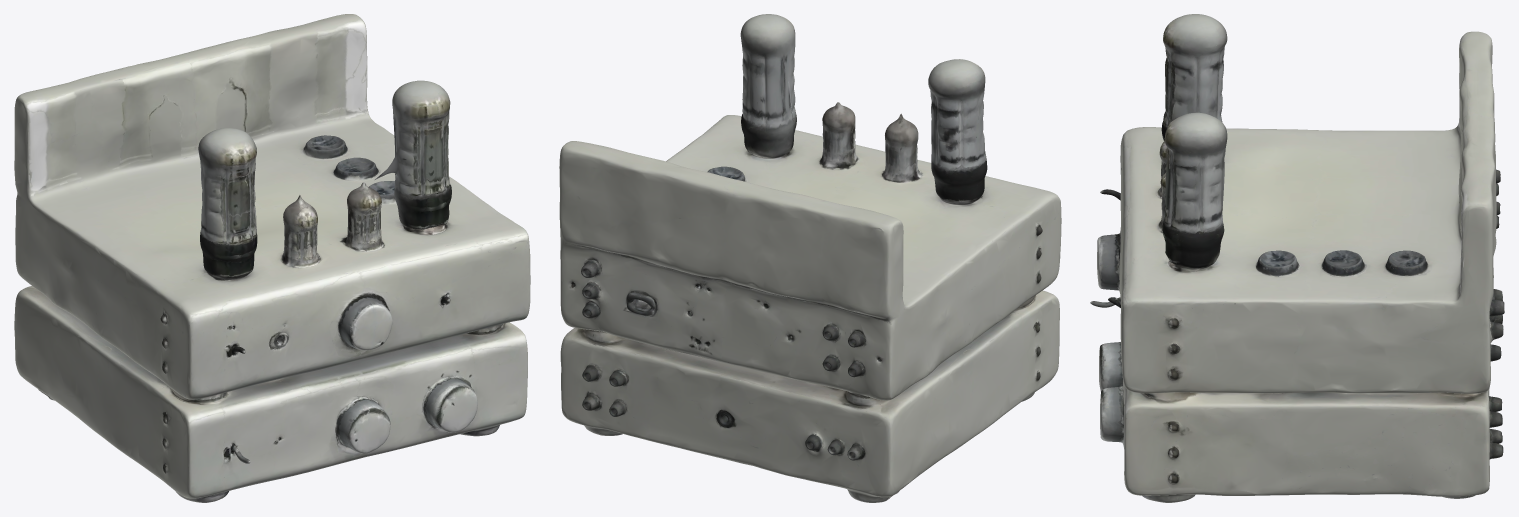
Rendered from amp.glb.
3 renders of one model, left to right at view 1: azimuth 30°, elevation 25°; view 2: azimuth 150°, elevation 25°; view 3: azimuth 270°, elevation 25°, orthographic. The views are drawn at different scales.
Visible parts, largest first — view 1: geometry_0; view 2: geometry_0; view 3: geometry_0.
Part boxes in pixels (left/top/right/bottom): geometry_0: left=14, top=14, right=530, bottom=502; geometry_0: left=559, top=14, right=1061, bottom=502; geometry_0: left=1090, top=14, right=1504, bottom=502.
Bounding box in the file's own units: 0.26 × 0.2417 × 0.2551.
1 material, 1 textured.
